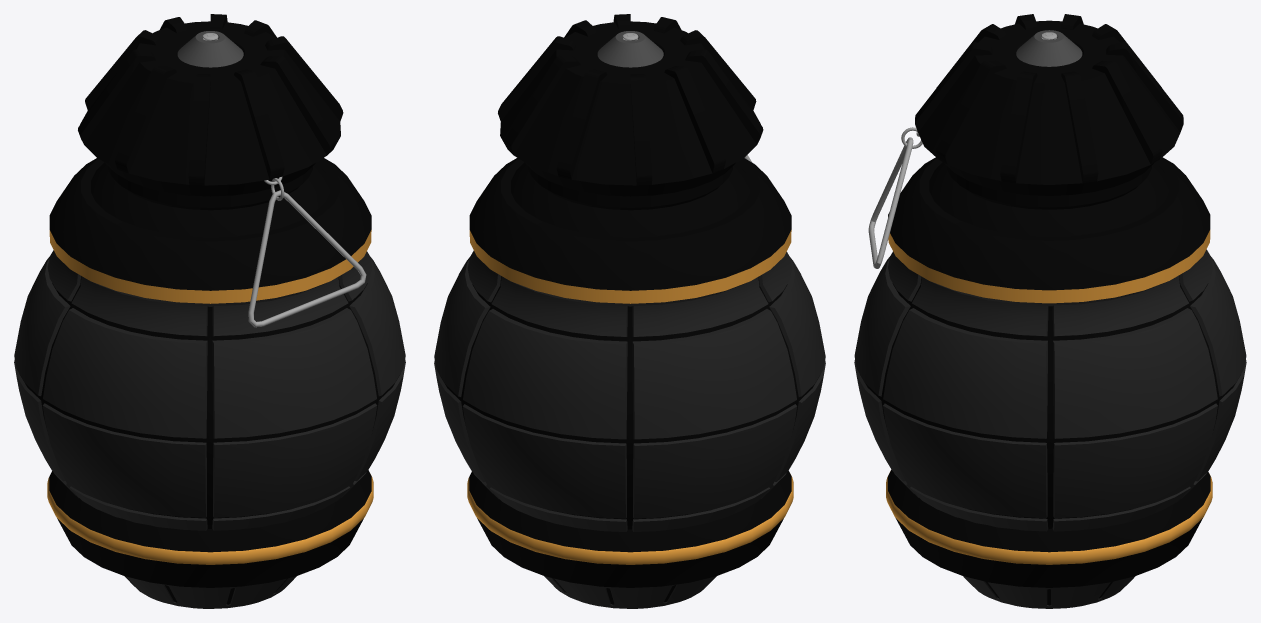
Rendered from Grenade.fbx.
The picture shows the model from 3 angles, left to right: view 1: azimuth 30°, elevation 25°; view 2: azimuth 150°, elevation 25°; view 3: azimuth 270°, elevation 25°; orthographic projection.
Parts seen in each view (by area): view 1: Grenade; view 2: Grenade; view 3: Grenade.
Part boxes in pixels (x1=…): Grenade: x1=14, y1=14, x2=405, y2=608; Grenade: x1=434, y1=14, x2=825, y2=608; Grenade: x1=854, y1=14, x2=1246, y2=608.
Bounding box in the file's own units: 169 × 257 × 169.
